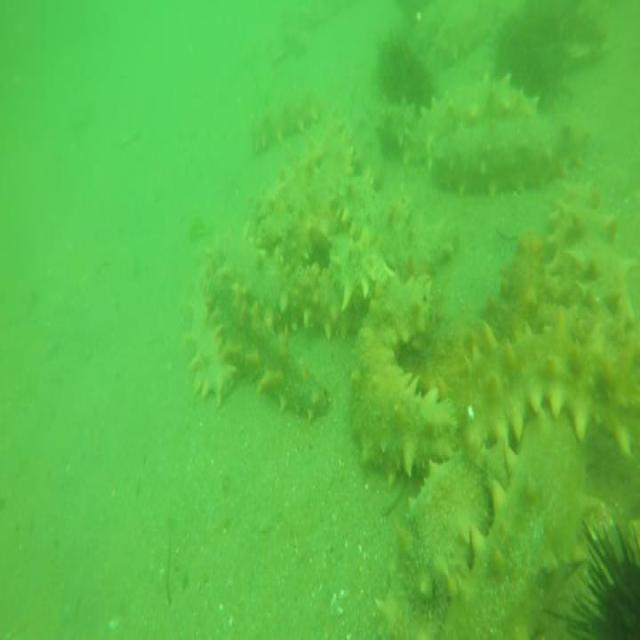echinus: (498, 3, 570, 106), (372, 22, 428, 112)
holothurian: (438, 414, 598, 640), (370, 437, 518, 640), (457, 311, 640, 463), (205, 246, 332, 424), (351, 268, 459, 472), (436, 221, 550, 397), (549, 182, 640, 343), (247, 111, 356, 240), (428, 112, 584, 201), (271, 207, 362, 351), (338, 164, 422, 286), (412, 74, 544, 149), (183, 259, 234, 409), (326, 232, 396, 313), (428, 0, 507, 71), (340, 94, 422, 160), (250, 85, 322, 160)
